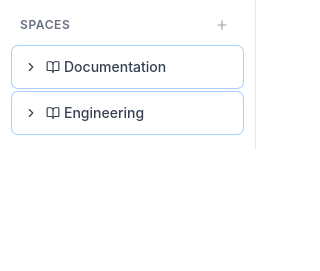
Test: Sidebar component › expands space on chevron click and shows pages
Expected: the link "Documentation" is shown, [64,58,166,75]
Note: Click the expand button for Documentation
Click the button named "Expand Documentation": (31, 67) [20,56,42,78]
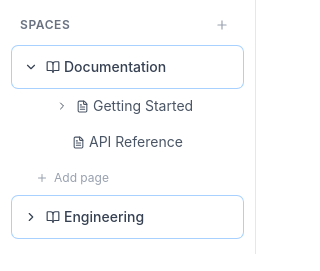
Now the link "Getting Started" is shown, box [93,97,193,114]
Now the link "API Reference" is shown, box [89,133,183,150]
